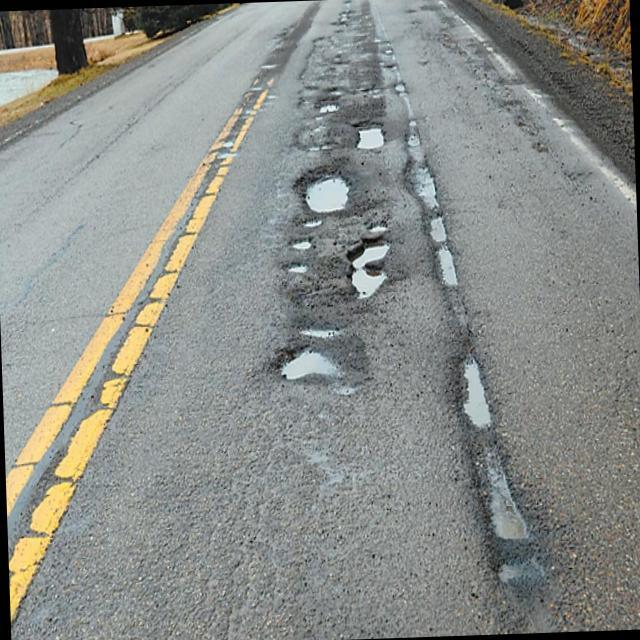Pothole: (256, 308, 342, 383), (349, 214, 414, 292), (294, 166, 362, 219), (347, 114, 392, 160), (287, 264, 324, 300), (291, 140, 338, 164), (333, 0, 355, 36), (284, 238, 314, 260), (306, 95, 334, 118), (362, 88, 405, 102), (300, 225, 330, 238)
